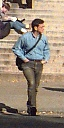person: (17, 20, 53, 116)
